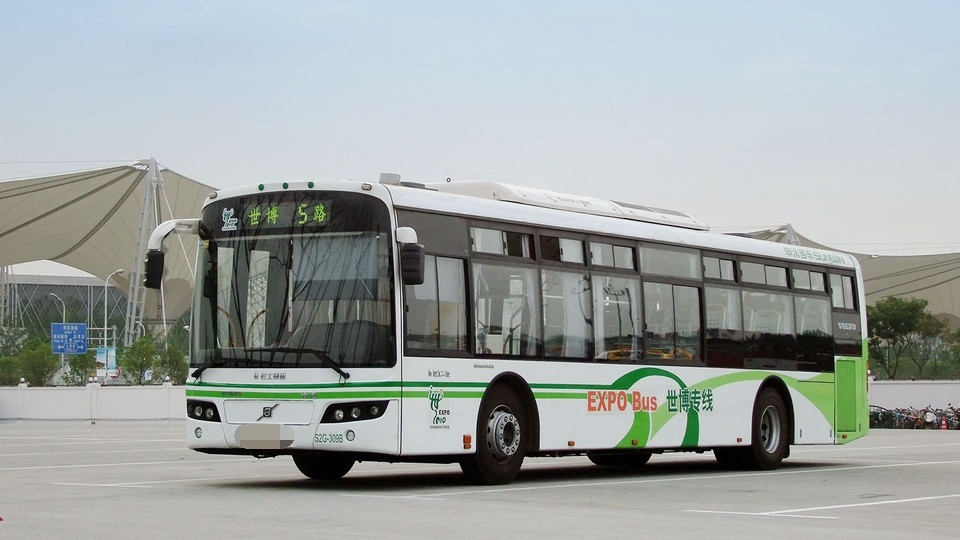bus: (146, 165, 872, 498)
